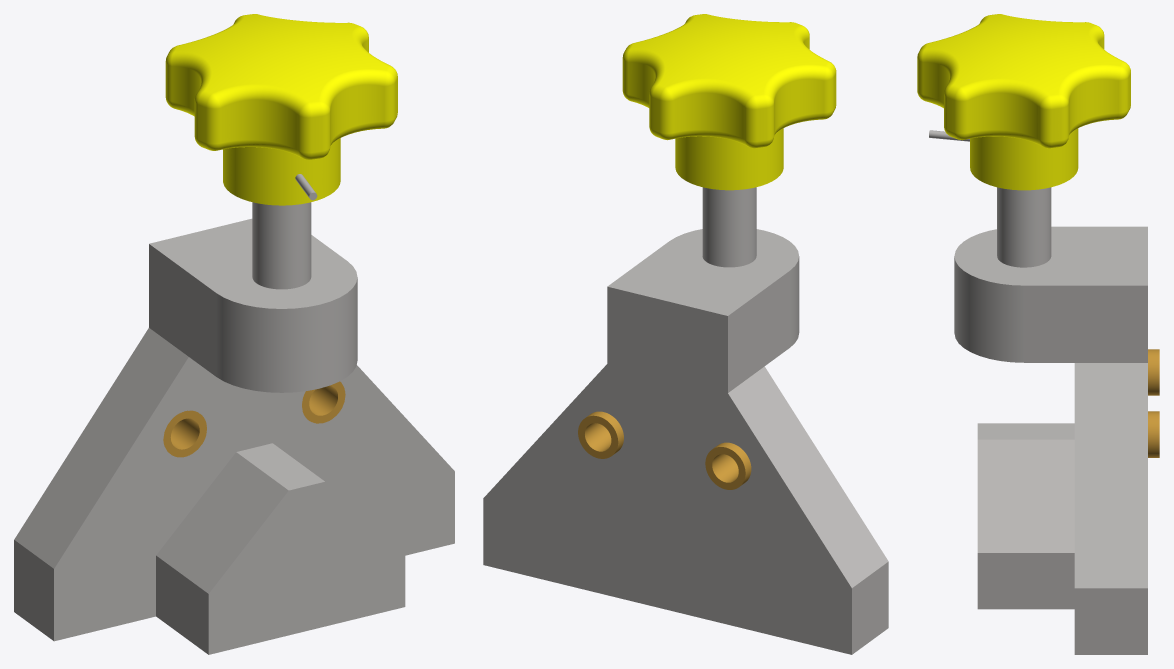
Rendered from Pemegang_Tuntun_Gurdi.glb.
The picture shows the model from 3 angles, left to right: view 1: azimuth 30°, elevation 25°; view 2: azimuth 150°, elevation 25°; view 3: azimuth 270°, elevation 25°; orthographic projection. The views are drawn at different scales.
Visible parts, largest first — view 1: Solid1 (×5); view 2: Solid1 (×5); view 3: Solid1 (×5).
Part boxes in pixels (bbox=[...]): Solid1 (×5): bbox=[14, 14, 454, 654]; Solid1 (×5): bbox=[483, 14, 888, 654]; Solid1 (×5): bbox=[917, 14, 1159, 654].
Bounding box in the file's own units: 0.11 × 0.1482 × 0.0626.
